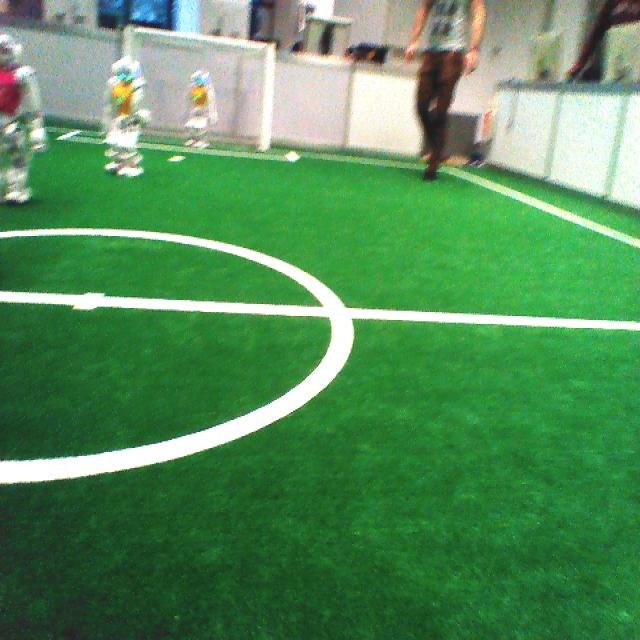goalpost: (257, 44, 277, 151), (120, 25, 136, 60)
